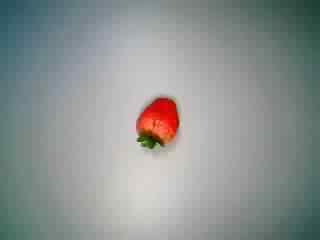strawberry: (121, 94, 183, 153)
